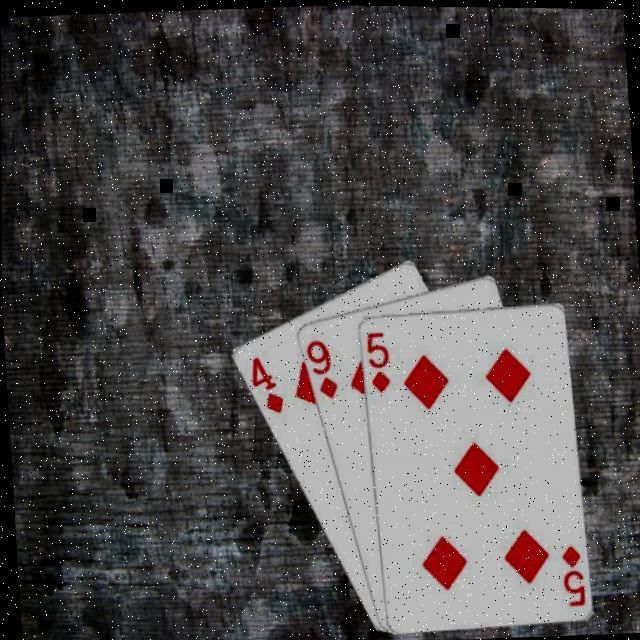4D: (247, 352, 286, 416)
5D: (362, 328, 393, 394), (559, 540, 588, 608)
9D: (303, 336, 340, 402)
